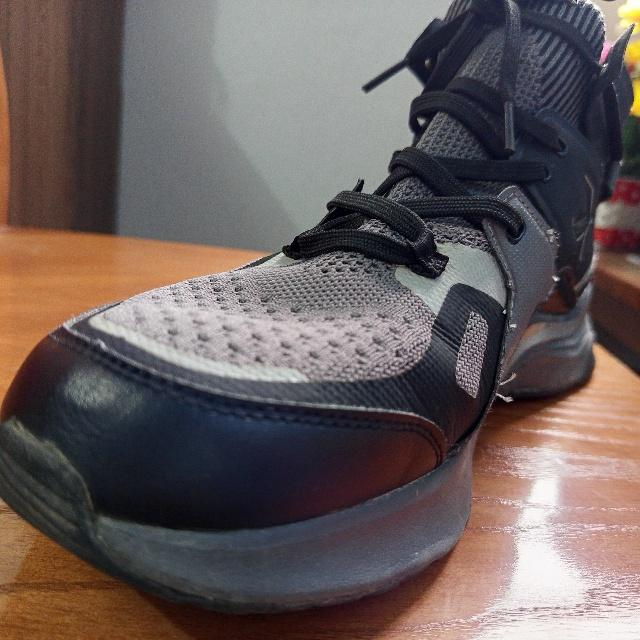broken: (492, 372, 516, 404), (540, 224, 557, 243)
